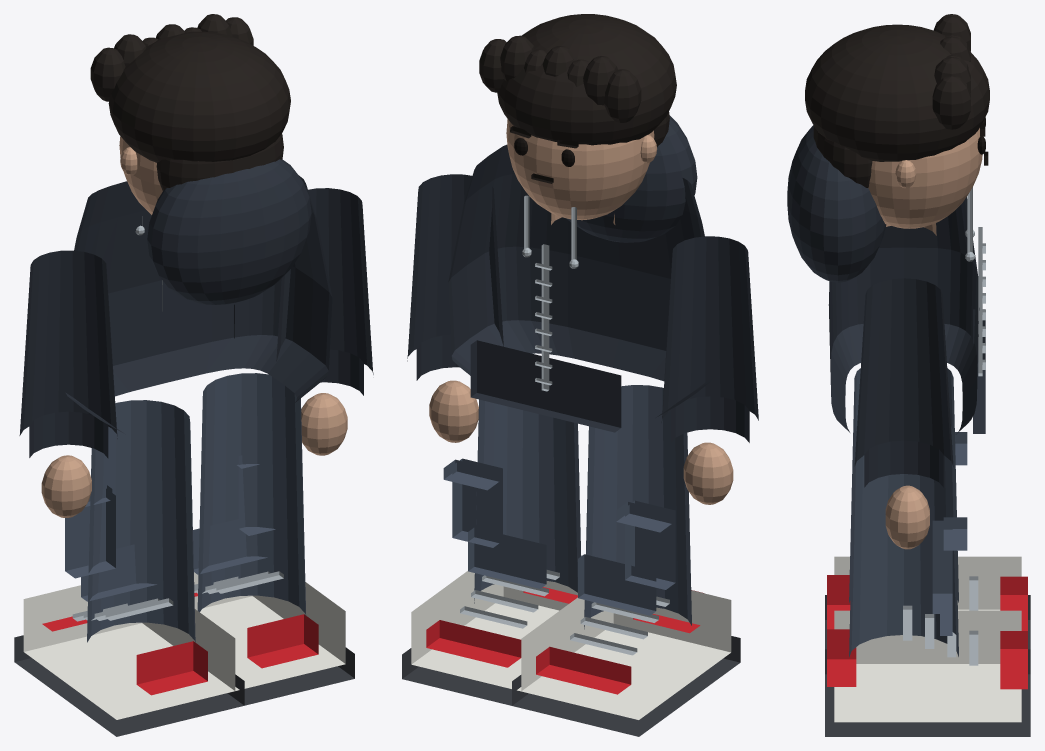
The model's file is ghibli_hero.gltf.
3 views of the same model, side by side, from view 1: azimuth 30°, elevation 25°; view 2: azimuth 150°, elevation 25°; view 3: azimuth 270°, elevation 25° (orthographic).
Parts seen in each view (by area): view 1: TrouserLeg (×2), HoodieBody, HoodieSleeve (×2), SneakerUpper (×2), HairCap, Hood, SneakerSole (×2), SneakerHeelAccent (×2), Hand (×2), SleeveCuff (×2), KneePanel (×2), CargoPocket (×2) (+4 smaller); view 2: HoodieBody, TrouserLeg (×2), HoodieSleeve (×2), SneakerUpper (×2), HairCap, HoodiePocket, Head, CargoPocket (×2), KneePanel (×2), SneakerSole (×2), Hood, HairFringe (+7 smaller); view 3: SneakerUpper (×2), HairCap, HoodieSleeve, TrouserLeg (×2), HoodieBody, Hood, Head, SneakerSole, HairFringe, CargoPocket (×2), SneakerToeAccent (×2), SleeveCuff (+8 smaller).
Part boxes in pixels (x1,y1,x2,y2): TrouserLeg (×2): [87, 373, 306, 642]; HoodieBody: [65, 175, 332, 432]; HoodieSleeve (×2): [19, 188, 373, 438]; SneakerUpper (×2): [23, 572, 345, 719]; HairCap: [108, 31, 290, 162]; Hood: [147, 159, 311, 304]; SneakerSole (×2): [14, 635, 354, 736]; SneakerHeelAccent (×2): [136, 614, 318, 695]; Hand (×2): [41, 393, 347, 517]; SleeveCuff (×2): [29, 349, 363, 458]; KneePanel (×2): [81, 518, 267, 601]; CargoPocket (×2): [65, 455, 275, 578]; HoodieBody: [448, 144, 713, 417]; TrouserLeg (×2): [474, 385, 691, 629]; HoodieSleeve (×2): [407, 174, 758, 422]; SneakerUpper (×2): [411, 571, 731, 719]; HairCap: [497, 14, 676, 145]; HoodiePocket: [470, 340, 621, 432]; Head: [506, 119, 654, 220]; CargoPocket (×2): [443, 458, 675, 589]; KneePanel (×2): [468, 527, 656, 615]; SneakerSole (×2): [402, 636, 740, 736]; Hood: [566, 115, 697, 242]; HairFringe: [479, 35, 641, 122]; SneakerUpper (×2): [834, 556, 1021, 722]; HairCap: [805, 24, 989, 161]; HoodieSleeve: [854, 278, 953, 466]; TrouserLeg (×2): [849, 368, 958, 657]; HoodieBody: [828, 197, 979, 434]; Hood: [787, 125, 886, 282]; Head: [868, 128, 982, 228]; SneakerSole: [825, 649, 1030, 736]; HairFringe: [932, 14, 970, 129]; CargoPocket (×2): [932, 432, 967, 613]; SneakerToeAccent (×2): [1000, 576, 1027, 689]; SleeveCuff: [864, 440, 943, 487].
Bounding box in the file's own units: 1.08 × 1.93 × 0.6631.
